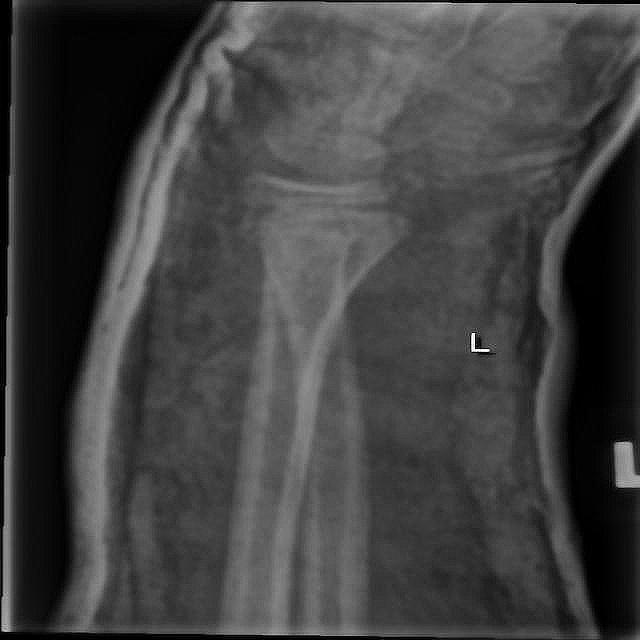bone: (231, 194, 418, 254)
